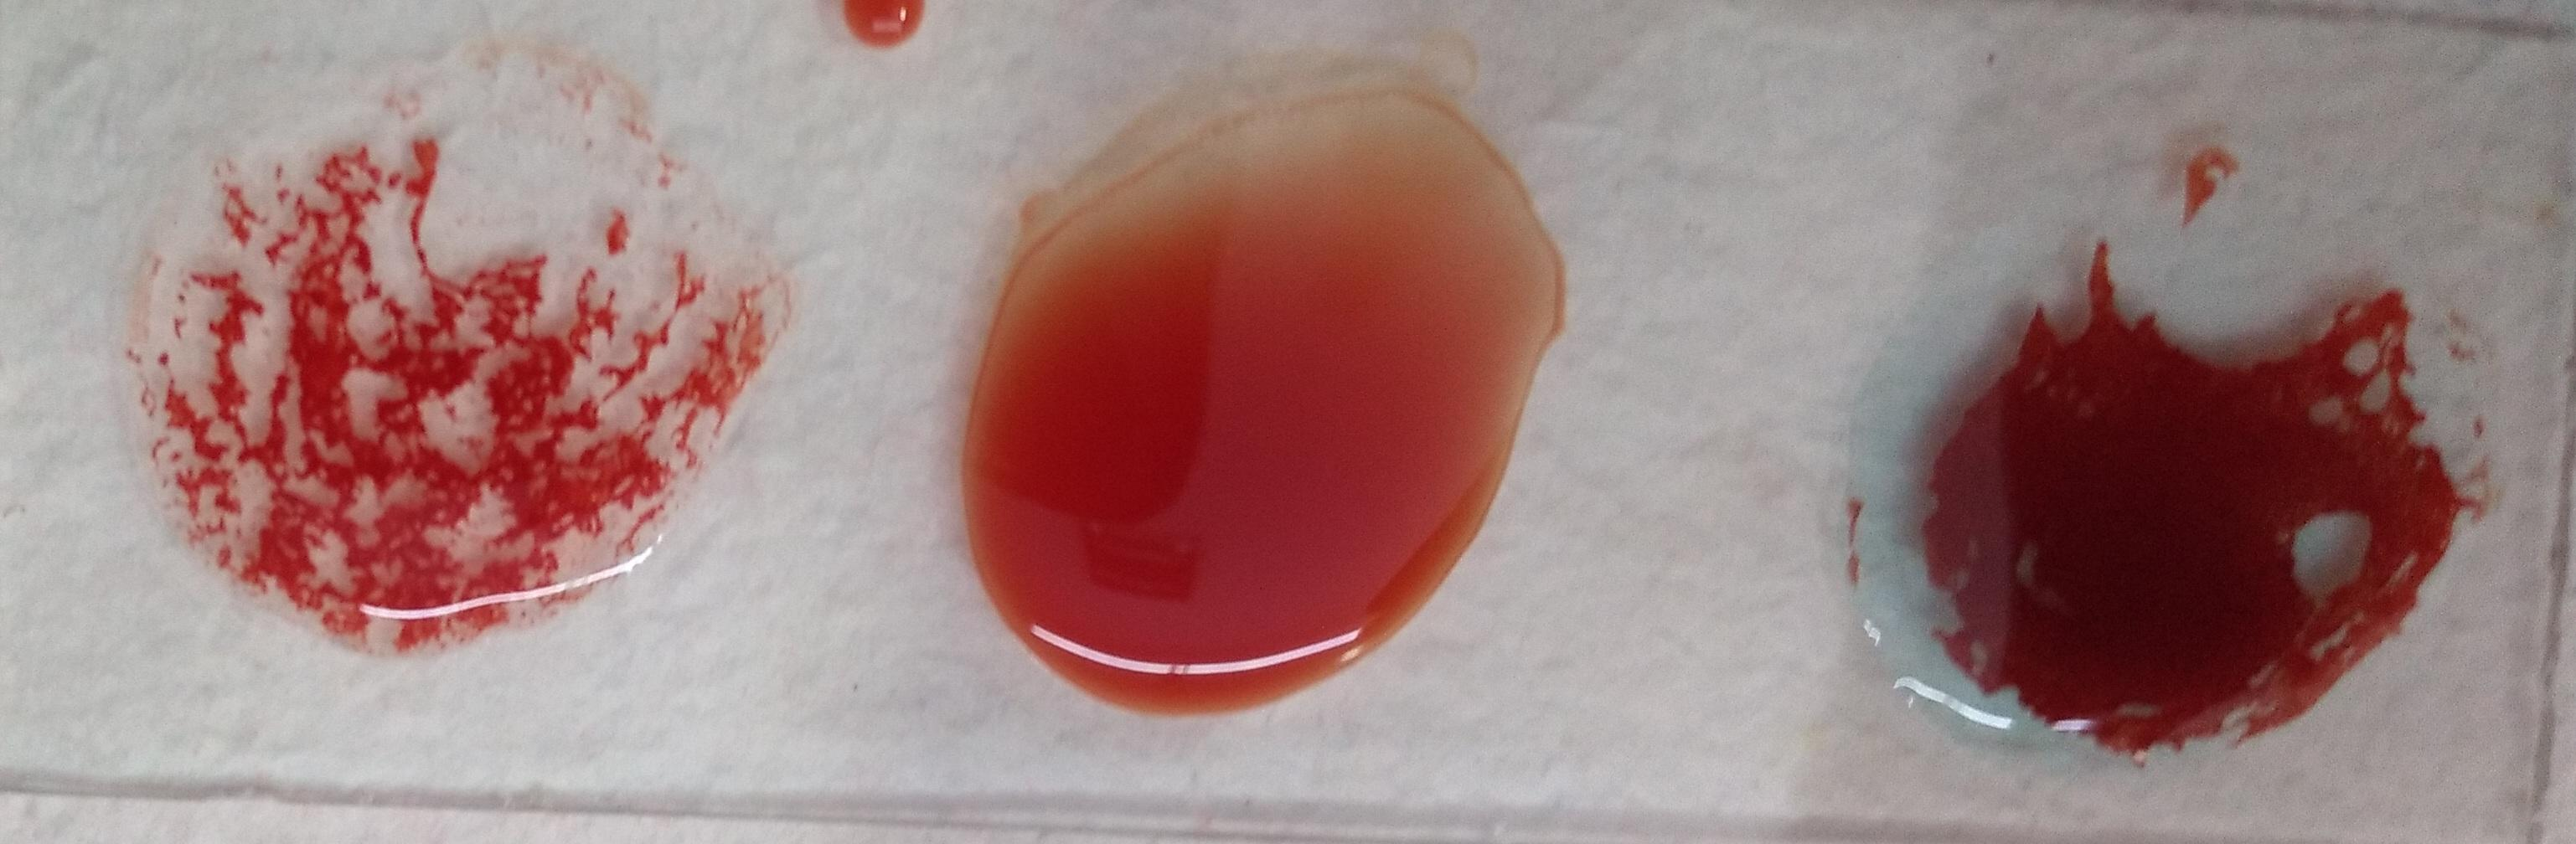A: (1886, 182, 2471, 775)
D: (130, 79, 705, 652)
